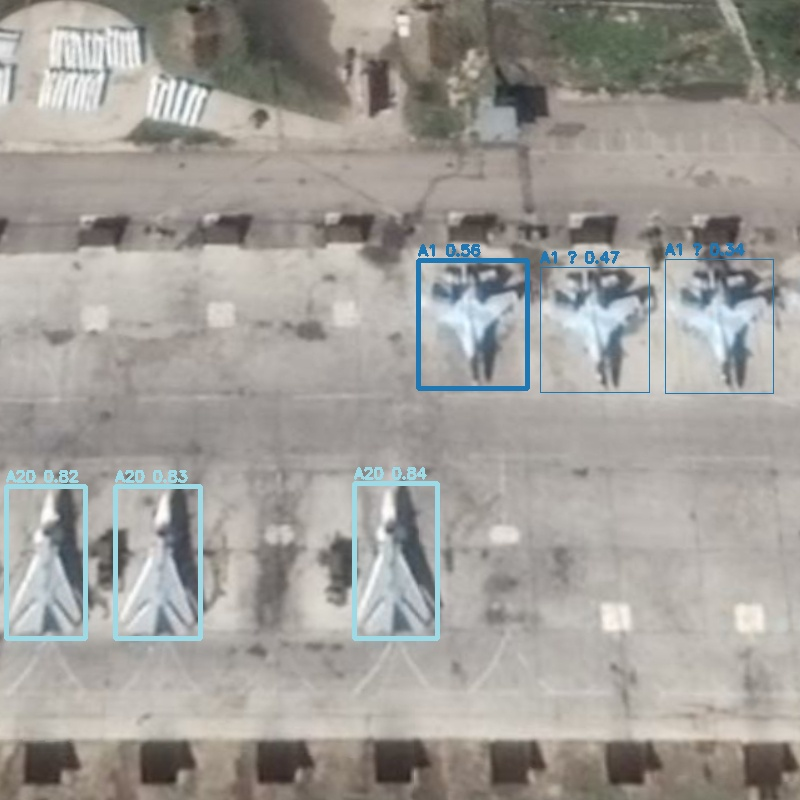A1: (665, 259, 773, 393), (418, 260, 527, 388), (540, 267, 649, 392)
A20: (115, 486, 200, 638), (354, 483, 437, 638), (6, 486, 85, 638)
